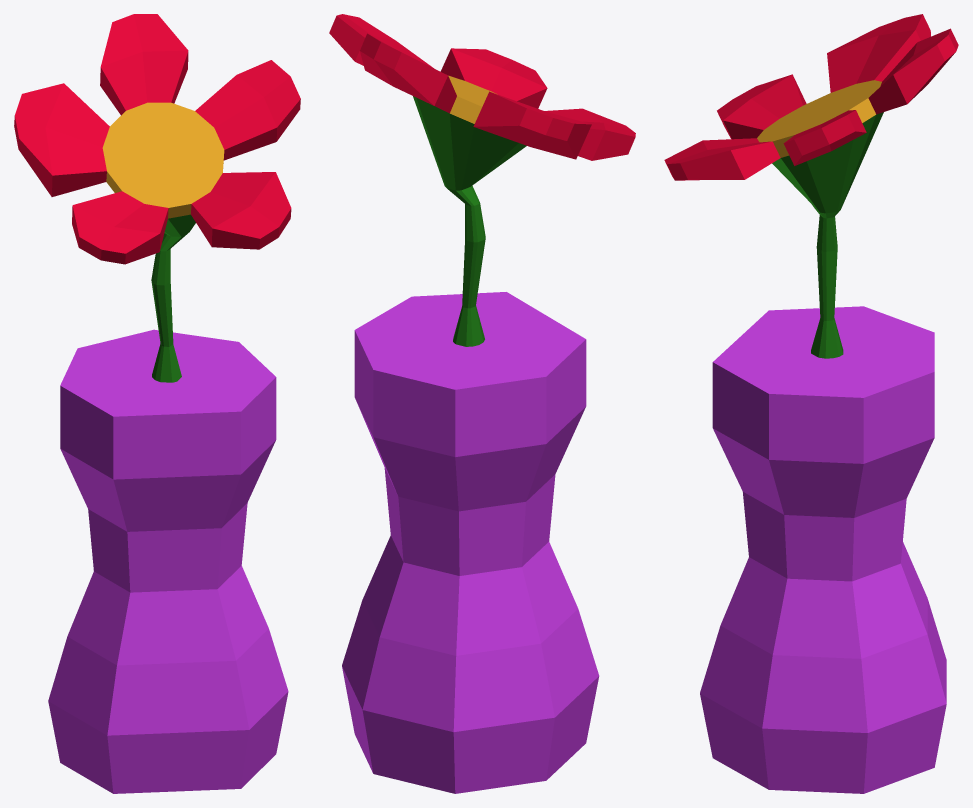
The model's file is Flower_Vase.fbx.
3 views of the same model, side by side, from view 1: azimuth 30°, elevation 25°; view 2: azimuth 150°, elevation 25°; view 3: azimuth 270°, elevation 25° (orthographic). The views are drawn at different scales.
Visible parts, largest first — view 1: Flower_Vase; view 2: Flower_Vase; view 3: Flower_Vase.
Boxes of the visible parts, left/top/right/bottom form: Flower_Vase: left=14, top=14, right=300, bottom=793; Flower_Vase: left=329, top=14, right=635, bottom=793; Flower_Vase: left=664, top=14, right=958, bottom=793.
Size of the model in its own units: 142 by 380 by 140.
